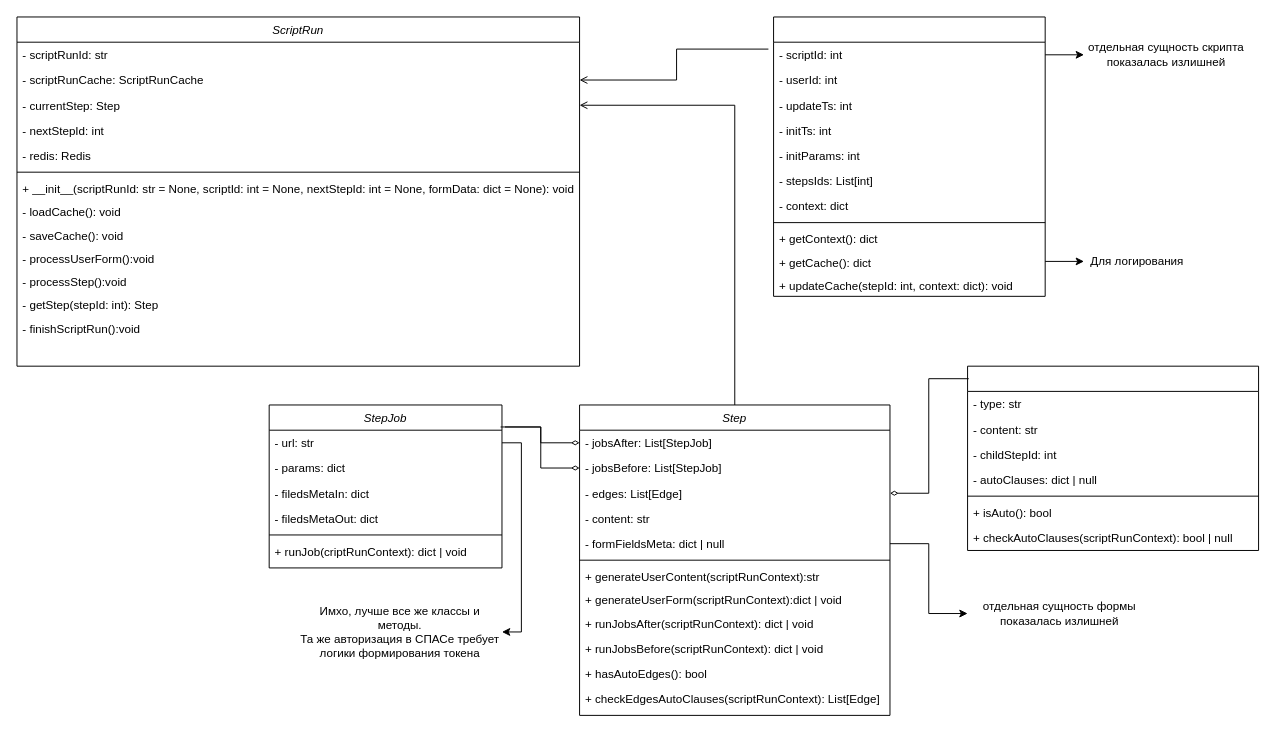
The diagram is 1276 pixels wide and 732 high, and some of its shapes have lost their labels. Each missing label, with the box of its shape:
Edge: (967, 365, 1259, 550)
ScriptRunCache: (773, 16, 1045, 296)
